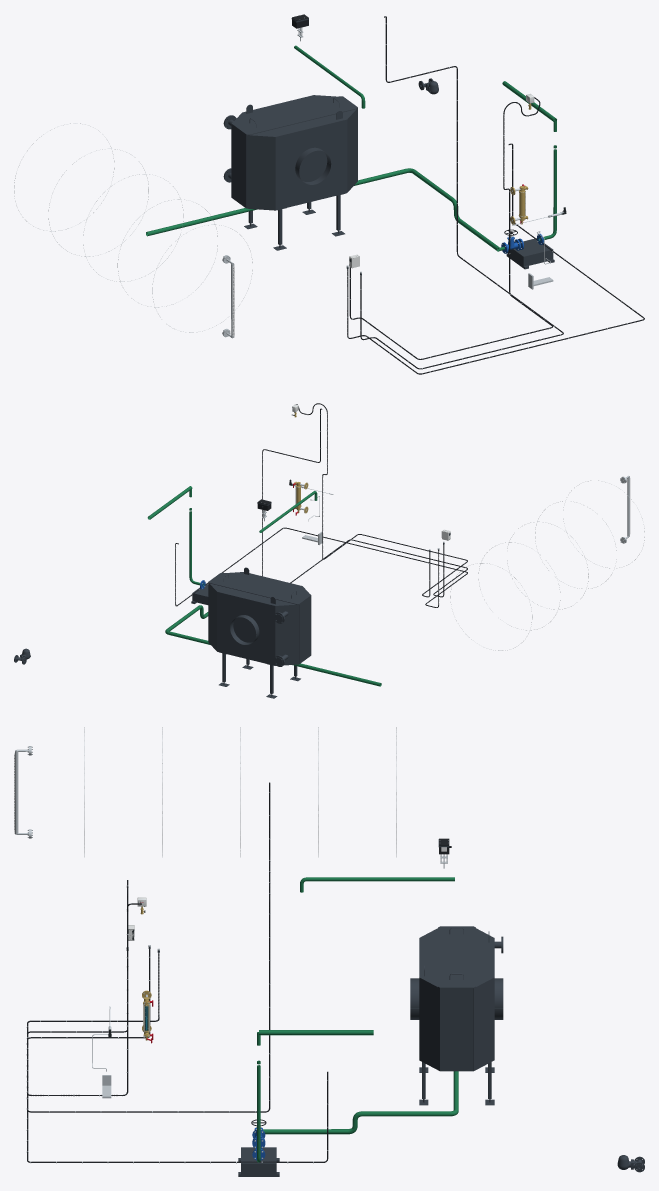
Rendered from s4000-2-DayznMXS.glb.
3 views of the same model, one above another, from view 1: azimuth 30°, elevation 25°; view 2: azimuth 150°, elevation 25°; view 3: azimuth 270°, elevation 25° (orthographic). The views are drawn at different scales.
Parts seen in each view (by area): view 1: EQS2-3000 CAD 0, EQS2-3000 CAD 3, EQS2-3000 CAD 1, suction_common / green, gpz_drive_cable / black, wiring_pump_2 / black, wiring_pressure_switch_3 / black, pump_branch_1 / dark, deaerator_details / steel; view 2: EQS2-3000 CAD 0, EQS2-3000 CAD 3, EQS2-3000 CAD 2, suction_common / green, gpz_drive_cable / black, wiring_pump_2 / black, wiring_pressure_switch_3 / black, deaerator_details / steel; view 3: EQS2-3000 CAD 3, suction_common / green, EQS2-3000 CAD 0, gpz_drive_cable / black, wiring_pump_2 / black, deaerator_details / steel, wiring_pressure_switch_3 / black, pump_branch_1 / dark, direct_inlet / green, pump_delivery / green.
Boxes of the visible parts, x1,y1,x2,y2 form: EQS2-3000 CAD 0: [244, 119, 347, 250]; EQS2-3000 CAD 3: [231, 95, 357, 208]; EQS2-3000 CAD 1: [246, 135, 275, 210]; suction_common / green: [146, 168, 499, 251]; gpz_drive_cable / black: [360, 16, 563, 369]; wiring_pump_2 / black: [347, 143, 644, 374]; wiring_pressure_switch_3 / black: [349, 97, 552, 359]; pump_branch_1 / dark: [506, 238, 554, 269]; deaerator_details / steel: [14, 123, 252, 338]; EQS2-3000 CAD 0: [217, 592, 300, 698]; EQS2-3000 CAD 3: [208, 567, 311, 664]; EQS2-3000 CAD 2: [274, 604, 298, 666]; suction_common / green: [165, 605, 381, 686]; gpz_drive_cable / black: [262, 408, 467, 597]; wiring_pump_2 / black: [175, 527, 467, 607]; wiring_pressure_switch_3 / black: [292, 403, 467, 597]; deaerator_details / steel: [450, 475, 644, 650]; EQS2-3000 CAD 3: [419, 926, 494, 1071]; suction_common / green: [263, 1071, 458, 1134]; EQS2-3000 CAD 0: [410, 978, 503, 1105]; gpz_drive_cable / black: [27, 782, 270, 1112]; wiring_pump_2 / black: [27, 949, 328, 1162]; deaerator_details / steel: [14, 727, 396, 857]; wiring_pressure_switch_3 / black: [27, 880, 159, 1095]; pump_branch_1 / dark: [238, 1147, 279, 1176]; direct_inlet / green: [300, 877, 432, 892]; pump_delivery / green: [259, 1030, 373, 1035].
Size of the model in its own units: 7.46 by 3.71 by 6.88.
